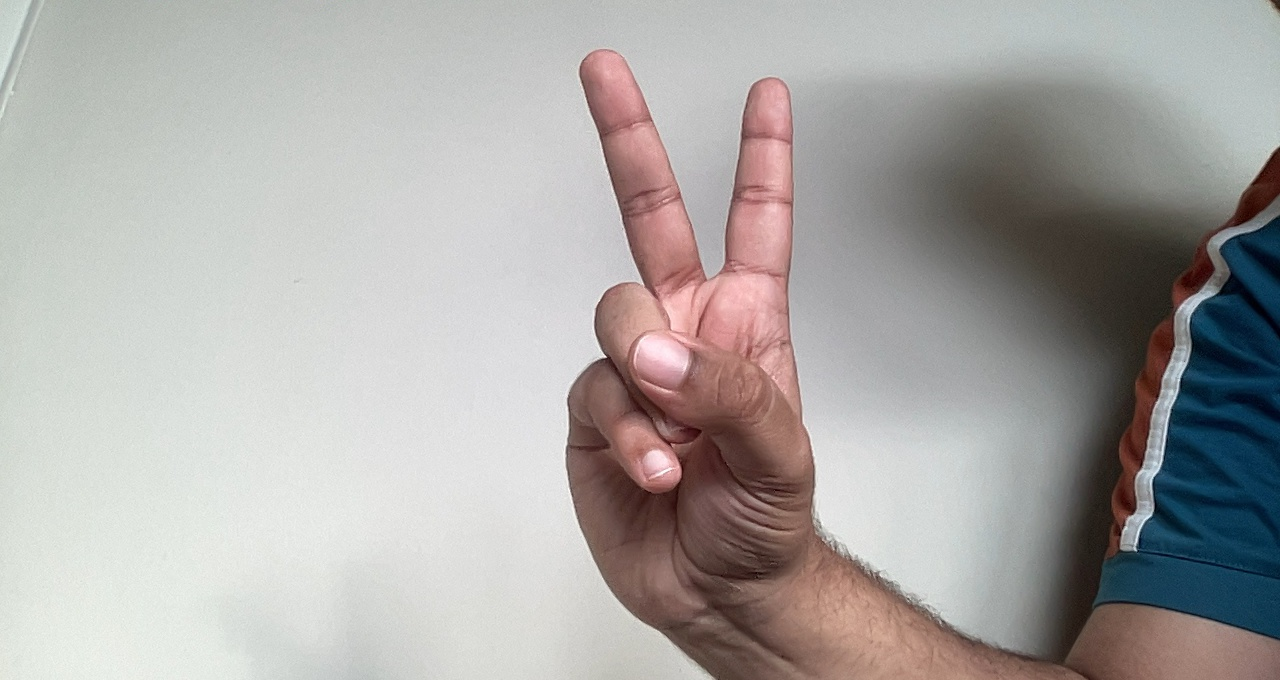peace sign: (543, 39, 838, 624)
